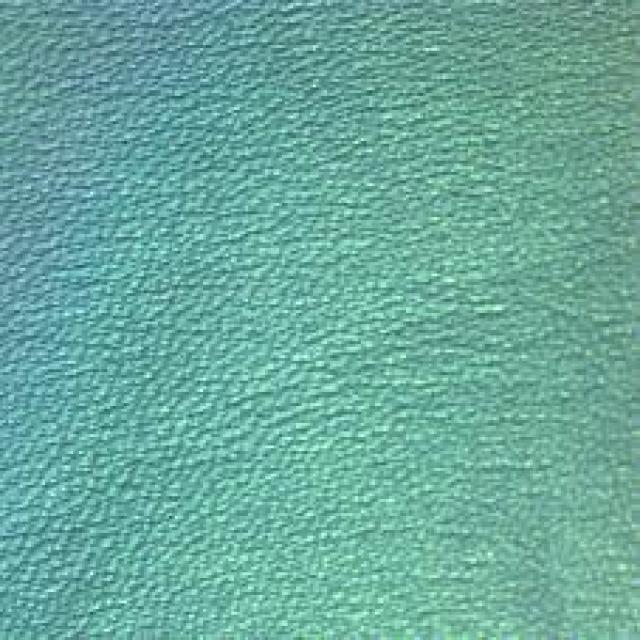Growth Marks: (28, 398, 297, 549), (304, 269, 564, 383)
